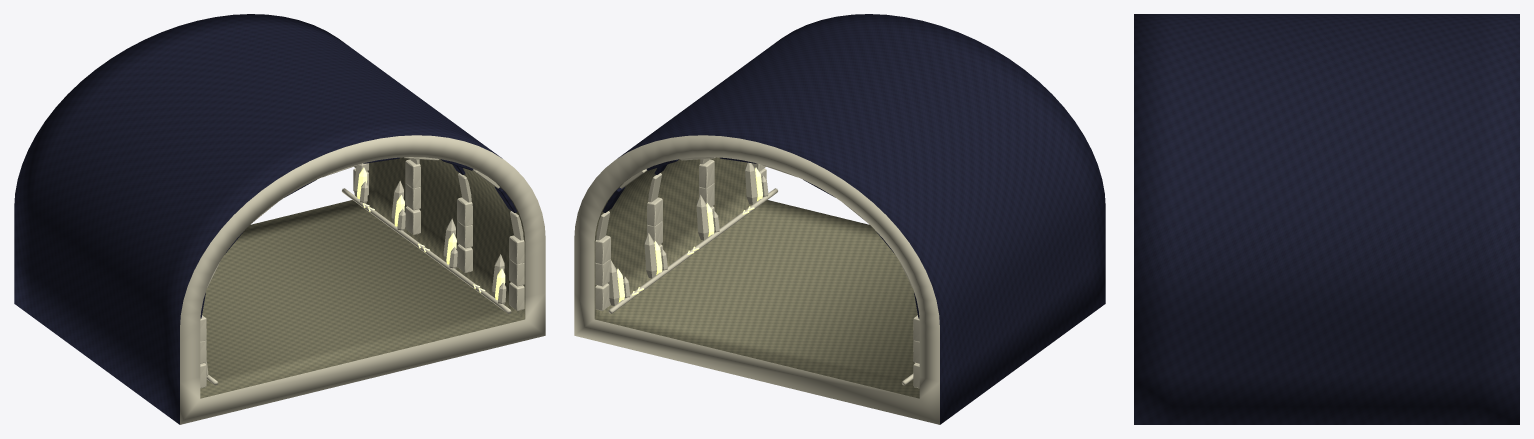
Rendered from straight_12m_lod1.glb.
3 renders of one model, left to right at view 1: azimuth 30°, elevation 25°; view 2: azimuth 150°, elevation 25°; view 3: azimuth 270°, elevation 25°, orthographic. The views are drawn at different scales.
Visible parts, largest first — view 1: TunnelGeometry.001; view 2: TunnelGeometry.001; view 3: TunnelGeometry.001.
Boxes of the visible parts, <box> form: TunnelGeometry.001: <box>14,14,545,424</box>; TunnelGeometry.001: <box>574,14,1105,424</box>; TunnelGeometry.001: <box>1134,14,1519,424</box>.
Size of the model in its own units: 15.3 by 9.52 by 12.
4 materials, 2 textured.
